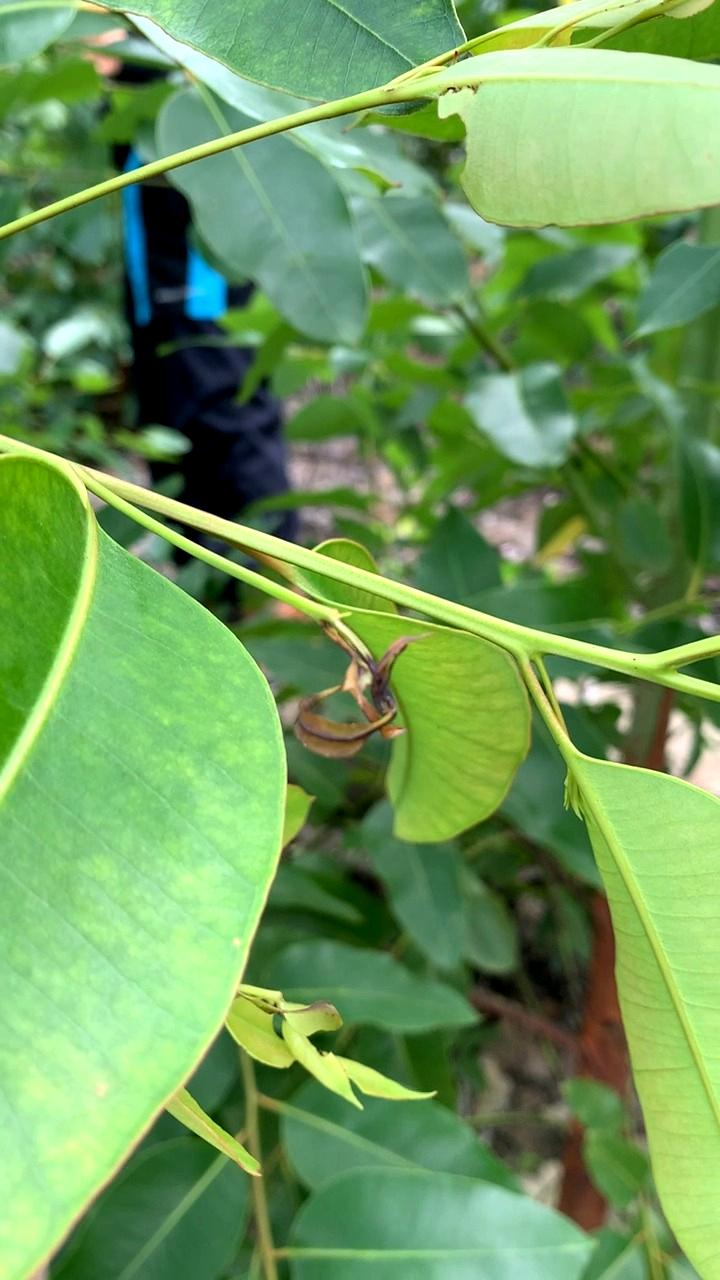Helopeltis-Withered Sprout: (298, 623, 411, 767)
